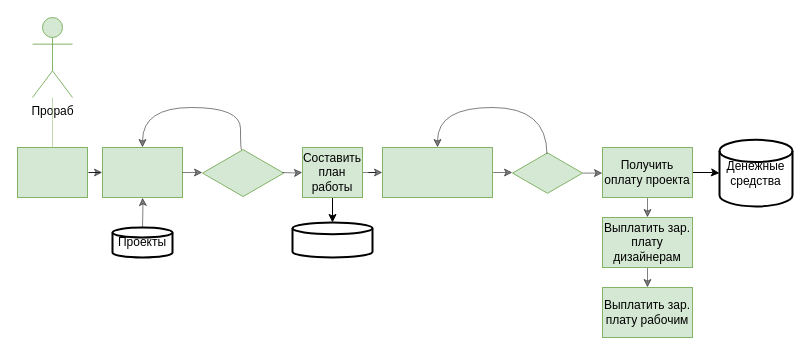
Some shapes in this 811 by 355 pixel diagram are drawn without their labels. Each missing label, with the box of its shape:
Общаться с заказчиком: (16, 146, 88, 198)
План работы: (291, 221, 373, 258)
Предложить заказчику проекты: (102, 146, 182, 198)
Следить за качеством выполнения плана: (382, 146, 492, 198)
